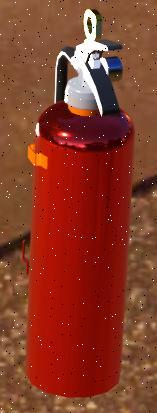Fire Extinguisher: (18, 0, 157, 398)
